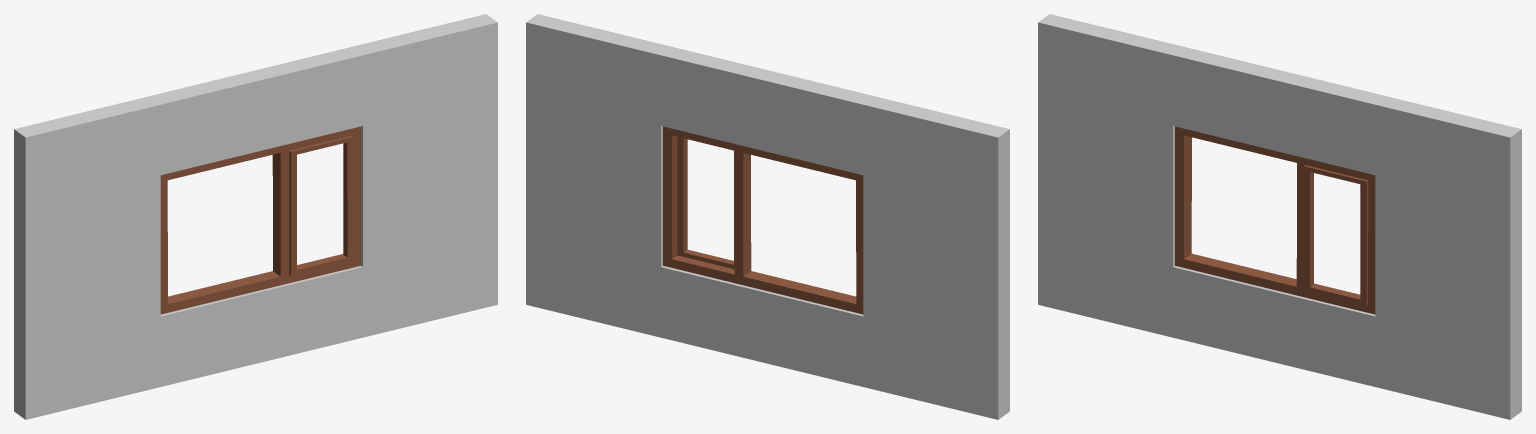
Rendered from window.fbx.
3 renders of one model, left to right at view 1: azimuth 30°, elevation 25°; view 2: azimuth 150°, elevation 25°; view 3: azimuth 330°, elevation 25°, orthographic.
Parts seen in each view (by area): view 1: Cube.004, Cube.005, Cube.006, Cube.007, window; view 2: Cube.004, Cube.005, Cube.006, Cube.007, window; view 3: Cube.005, Cube.004, Cube.006, Cube.007, window.
Boxes of the visible parts, bbox=[...] form: Cube.004: bbox=[14, 96, 160, 419]; Cube.005: bbox=[352, 14, 497, 337]; Cube.006: bbox=[149, 47, 362, 174]; Cube.007: bbox=[160, 266, 362, 386]; window: bbox=[160, 126, 360, 314]; Cube.004: bbox=[863, 96, 1009, 419]; Cube.005: bbox=[526, 14, 671, 337]; Cube.006: bbox=[661, 47, 874, 174]; Cube.007: bbox=[661, 266, 863, 386]; window: bbox=[663, 126, 863, 314]; Cube.005: bbox=[1375, 96, 1521, 419]; Cube.004: bbox=[1038, 14, 1183, 337]; Cube.006: bbox=[1173, 47, 1386, 174]; Cube.007: bbox=[1173, 266, 1375, 386]; window: bbox=[1175, 126, 1375, 314].
Bounding box in the file's own units: 7 × 4 × 0.2965.
